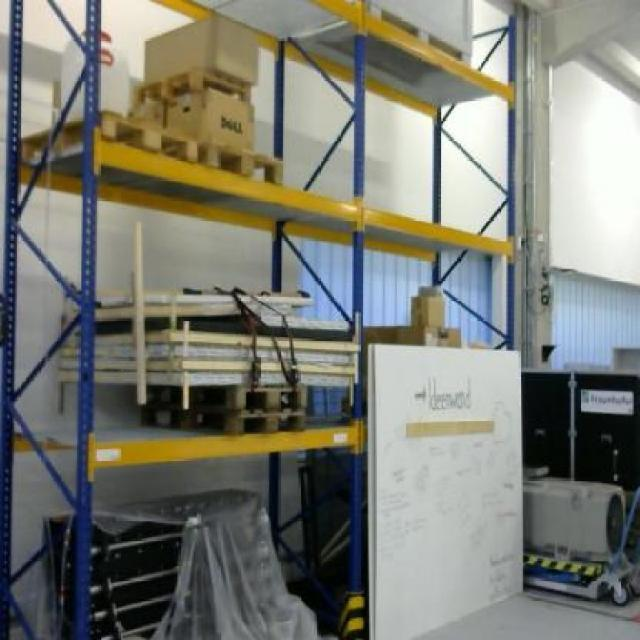box: (142, 13, 258, 87), (163, 86, 254, 152), (409, 293, 446, 330)
